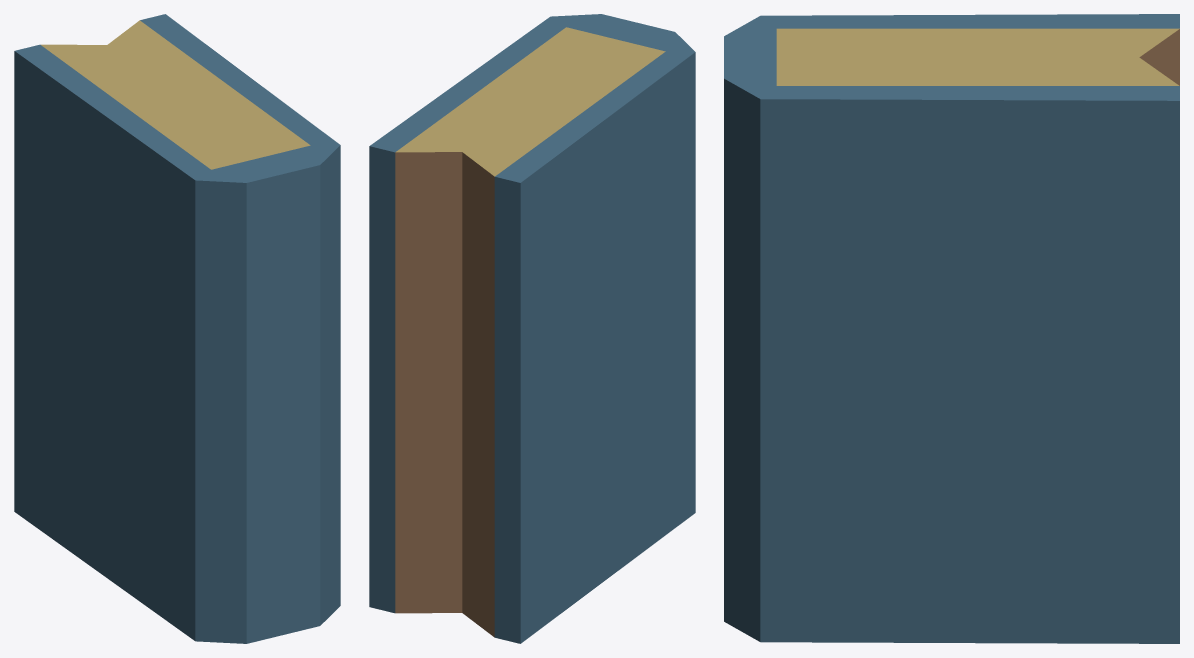
The model's file is TB_D_Prop_Book_D.FBX.
3 renders of one model, left to right at view 1: azimuth 30°, elevation 25°; view 2: azimuth 150°, elevation 25°; view 3: azimuth 270°, elevation 25°, orthographic. The views are drawn at different scales.
Visible parts, largest first — view 1: TB_D_Prop_Book_D; view 2: TB_D_Prop_Book_D; view 3: TB_D_Prop_Book_D.
Part boxes in pixels (left/top/right/bottom): TB_D_Prop_Book_D: left=14, top=14, right=340, bottom=643; TB_D_Prop_Book_D: left=369, top=14, right=695, bottom=643; TB_D_Prop_Book_D: left=724, top=14, right=1179, bottom=643.
Size of the model in its own units: 0.2401 by 0.6998 by 0.5323.
